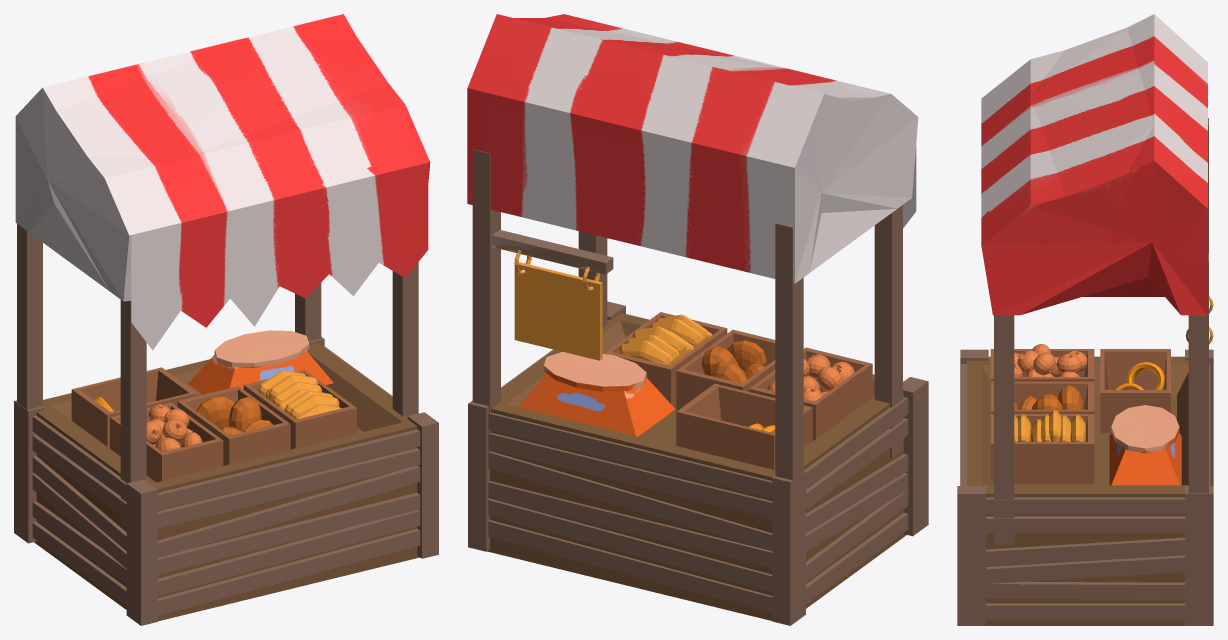
Rendered from StallCW.obj.
The picture shows the model from 3 angles, left to right: view 1: azimuth 30°, elevation 25°; view 2: azimuth 150°, elevation 25°; view 3: azimuth 270°, elevation 25°; orthographic projection. The views are drawn at different scales.
Parts seen in each view (by area): view 1: pCube56_blinn1SG, pCube35_standardSurface2SG, pCube1_phong5SG, pCube57_lambert3SG, pCylinder2_phongE1SG, polySurface4_phong1SG, pPrism5_phong2SG, pCube55_phong3SG; view 2: pCube56_blinn1SG, pCube35_standardSurface2SG, pCube1_phong5SG, pCube57_lambert3SG, pCube12_lambert4SG, pCylinder2_phongE1SG, polySurface4_phong1SG, pPrism5_phong2SG, pCube55_phong3SG; view 3: pCube56_blinn1SG, pCube35_standardSurface2SG, pCube1_phong5SG, pCube57_lambert3SG, pCylinder2_phongE1SG, polySurface4_phong1SG, pCube55_phong3SG, pPrism5_phong2SG, pPipe5_phong4SG.
Boxes of the visible parts, bbox=[...] form: pCube56_blinn1SG: bbox=[15, 14, 430, 350]; pCube35_standardSurface2SG: bbox=[14, 224, 438, 625]; pCube1_phong5SG: bbox=[34, 343, 419, 621]; pCube57_lambert3SG: bbox=[71, 367, 356, 482]; pCylinder2_phongE1SG: bbox=[188, 330, 333, 394]; polySurface4_phong1SG: bbox=[258, 370, 341, 419]; pPrism5_phong2SG: bbox=[196, 396, 272, 435]; pCube55_phong3SG: bbox=[146, 404, 202, 451]; pCube56_blinn1SG: bbox=[467, 14, 918, 283]; pCube35_standardSurface2SG: bbox=[468, 149, 928, 625]; pCube1_phong5SG: bbox=[487, 313, 906, 620]; pCube57_lambert3SG: bbox=[604, 312, 872, 469]; pCube12_lambert4SG: bbox=[492, 230, 613, 360]; pCylinder2_phongE1SG: bbox=[518, 351, 675, 436]; polySurface4_phong1SG: bbox=[619, 314, 711, 365]; pPrism5_phong2SG: bbox=[702, 340, 766, 383]; pCube55_phong3SG: bbox=[767, 354, 854, 401]; pCube56_blinn1SG: bbox=[981, 14, 1207, 315]; pCube35_standardSurface2SG: bbox=[957, 118, 1213, 625]; pCube1_phong5SG: bbox=[967, 356, 1188, 625]; pCube57_lambert3SG: bbox=[990, 349, 1170, 484]; pCylinder2_phongE1SG: bbox=[1109, 405, 1181, 485]; polySurface4_phong1SG: bbox=[1014, 409, 1085, 441]; pCube55_phong3SG: bbox=[1014, 344, 1087, 376]; pPrism5_phong2SG: bbox=[1014, 385, 1084, 409]; pPipe5_phong4SG: bbox=[1115, 362, 1164, 389].
Bounding box in the file's own units: 1.67 × 2.5 × 1.24.
11 materials, 11 textured.
